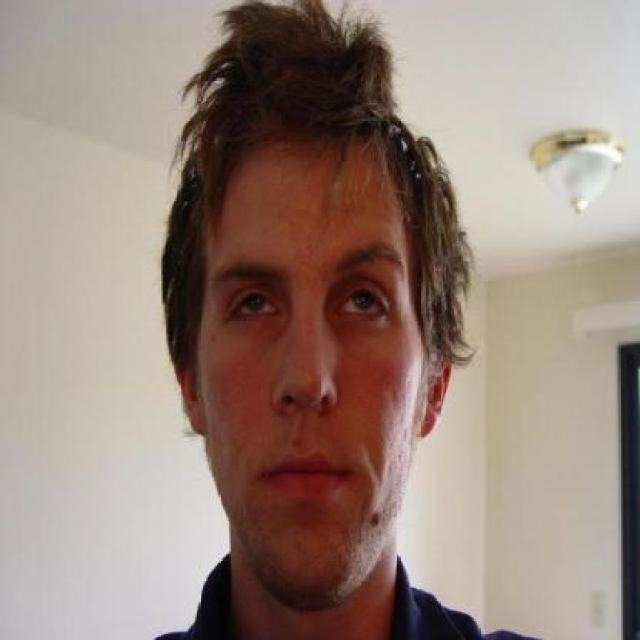awake: (331, 281, 387, 324), (225, 286, 278, 328)
